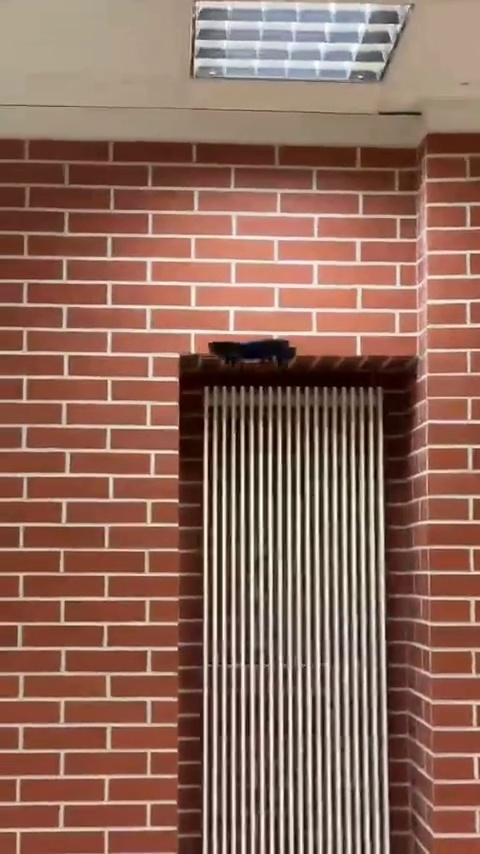drone: (209, 339, 298, 369)
